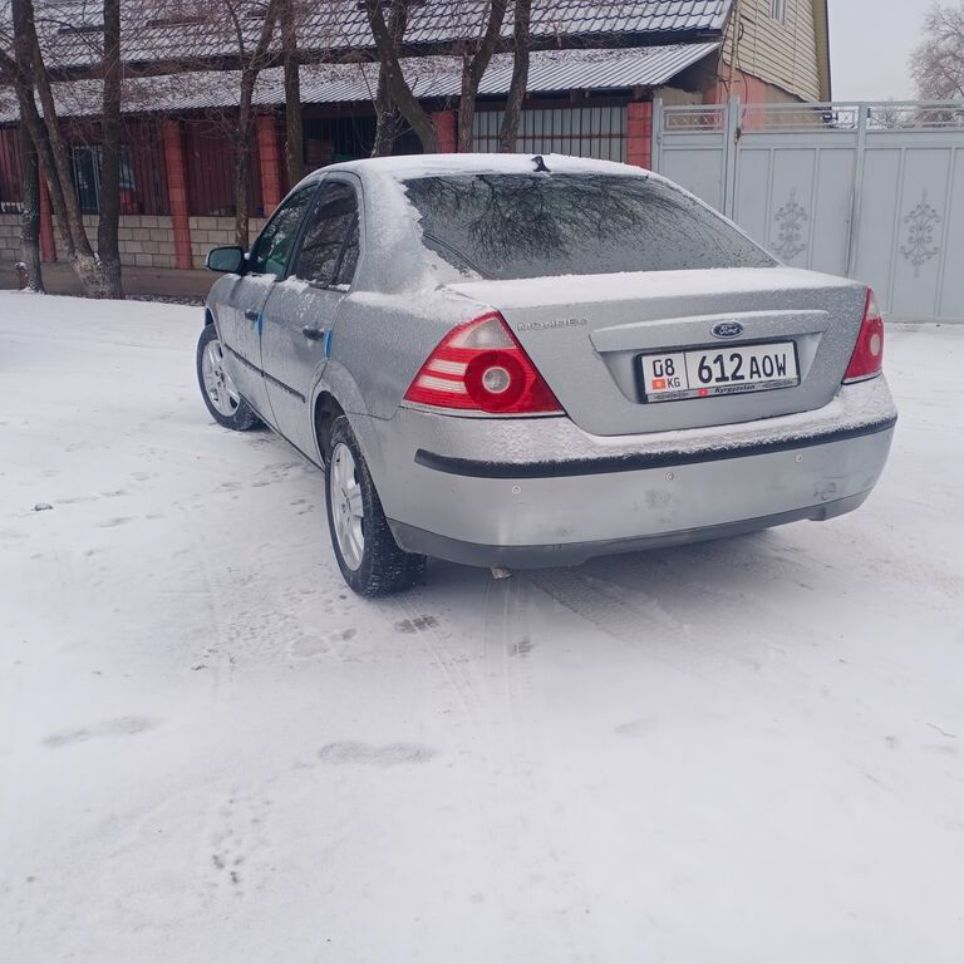license plate: (641, 339, 800, 401)
truck: (193, 156, 907, 602)
